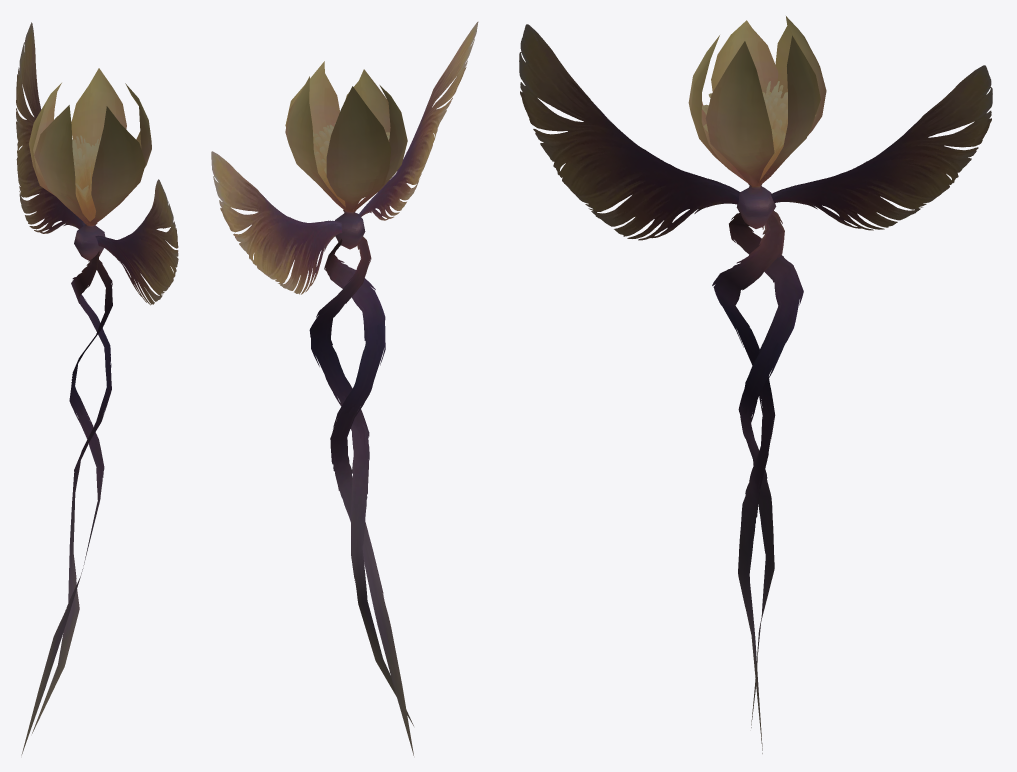
The picture shows the model from 3 angles, left to right: view 1: azimuth 30°, elevation 25°; view 2: azimuth 150°, elevation 25°; view 3: azimuth 270°, elevation 25°; orthographic projection. The views are drawn at different scales.
Size of the model in its own units: 0.8387 by 4.28 by 2.47.
Materials: 1 (1 with a texture image).
